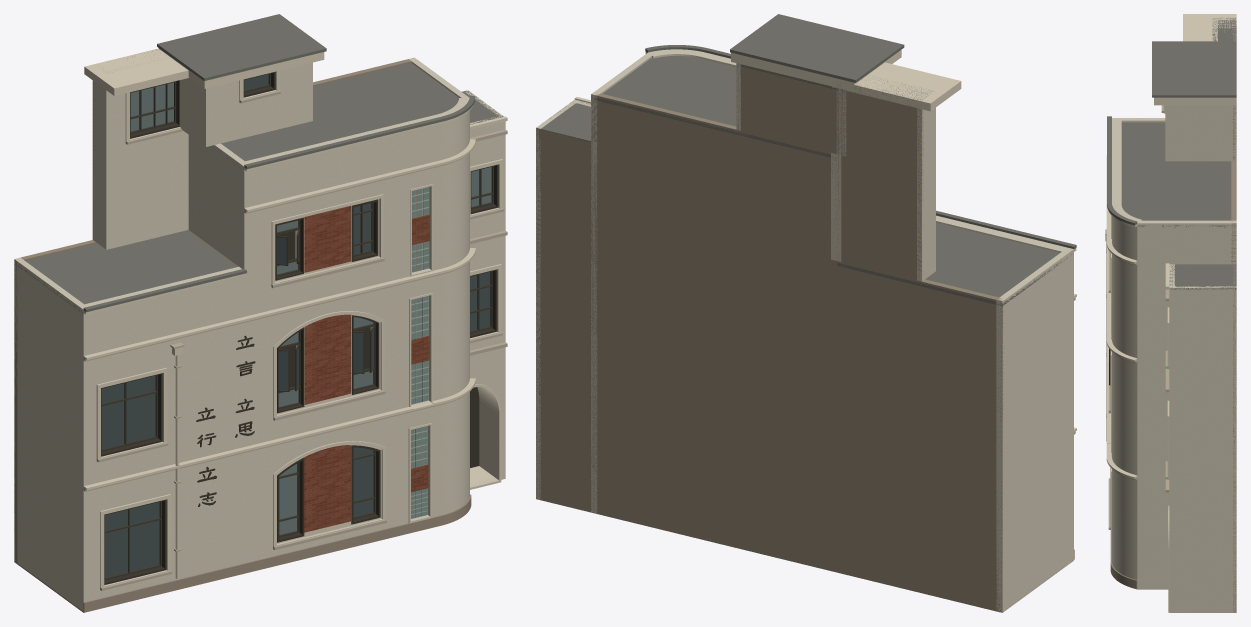
File: xuhui-jianguo-629-rounded-garden-residence-web.glb
3 renders of one model, left to right at view 1: azimuth 30°, elevation 25°; view 2: azimuth 150°, elevation 25°; view 3: azimuth 270°, elevation 25°, orthographic. The views are drawn at different scales.
Parts seen in each view (by area): view 1: 建国西路629号住宅花园立面; view 2: 建国西路629号住宅花园立面; view 3: 建国西路629号住宅花园立面.
Boxes of the visible parts, bbox=[...] form: 建国西路629号住宅花园立面: bbox=[14, 14, 507, 612]; 建国西路629号住宅花园立面: bbox=[536, 14, 1076, 612]; 建国西路629号住宅花园立面: bbox=[1105, 14, 1236, 612].
Size of the model in its own units: 11.89 by 12.15 by 3.32.
13 materials, 2 textured.
